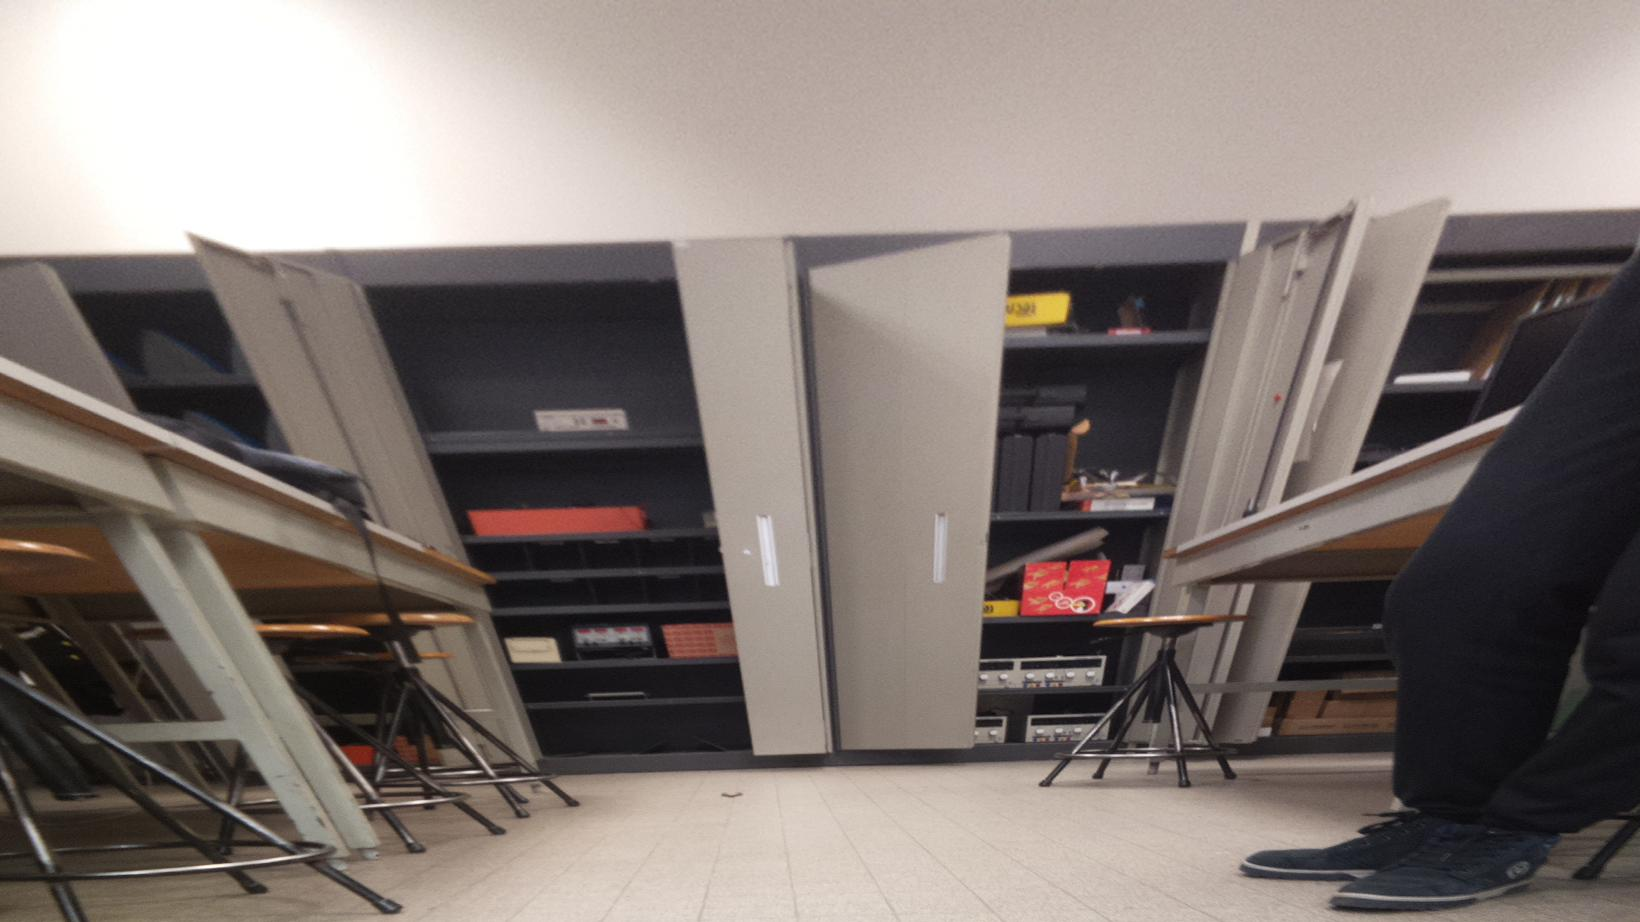small: (720, 789, 745, 802)
